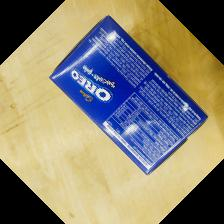Oreo: (48, 15, 209, 176)
